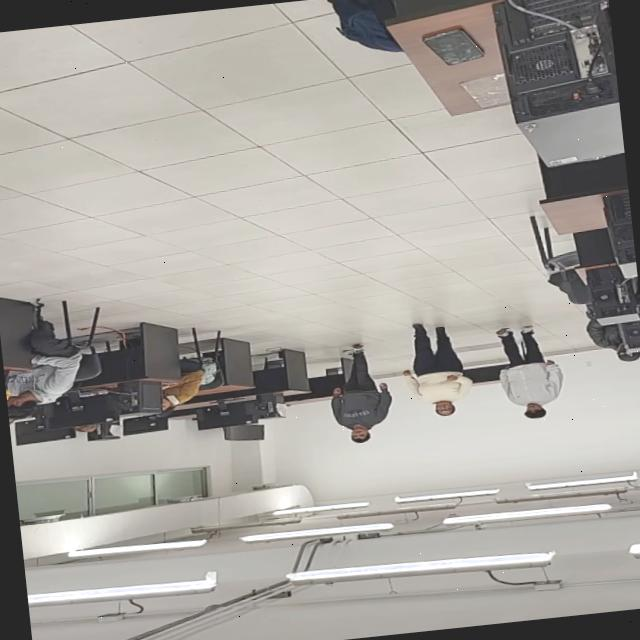Persona: (390, 314, 480, 422), (488, 316, 570, 428), (320, 335, 396, 454)
